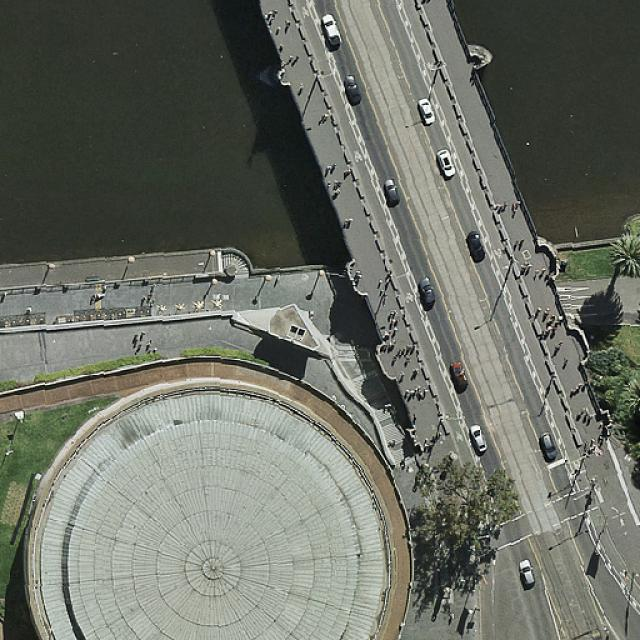Bike-Symbols: (571, 459, 584, 473), (352, 150, 365, 163), (299, 5, 311, 19), (618, 568, 630, 582), (426, 60, 439, 72), (455, 430, 466, 444), (493, 247, 504, 260), (404, 292, 415, 304)
